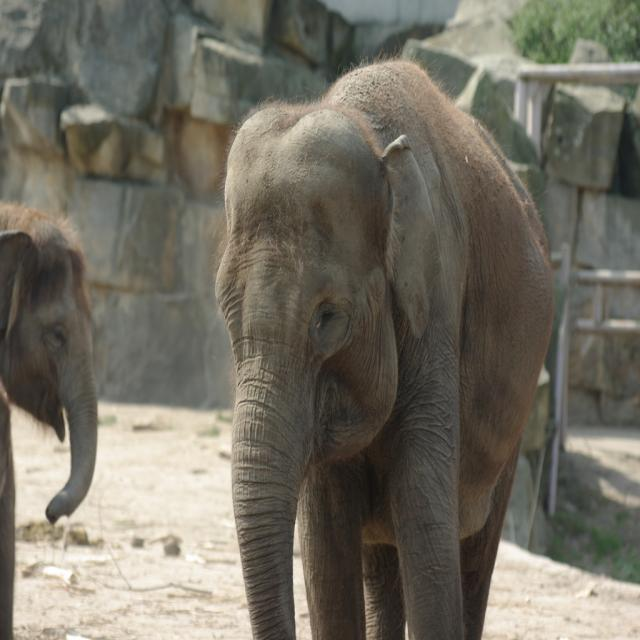Elephant: (214, 50, 549, 640), (0, 200, 97, 640)
